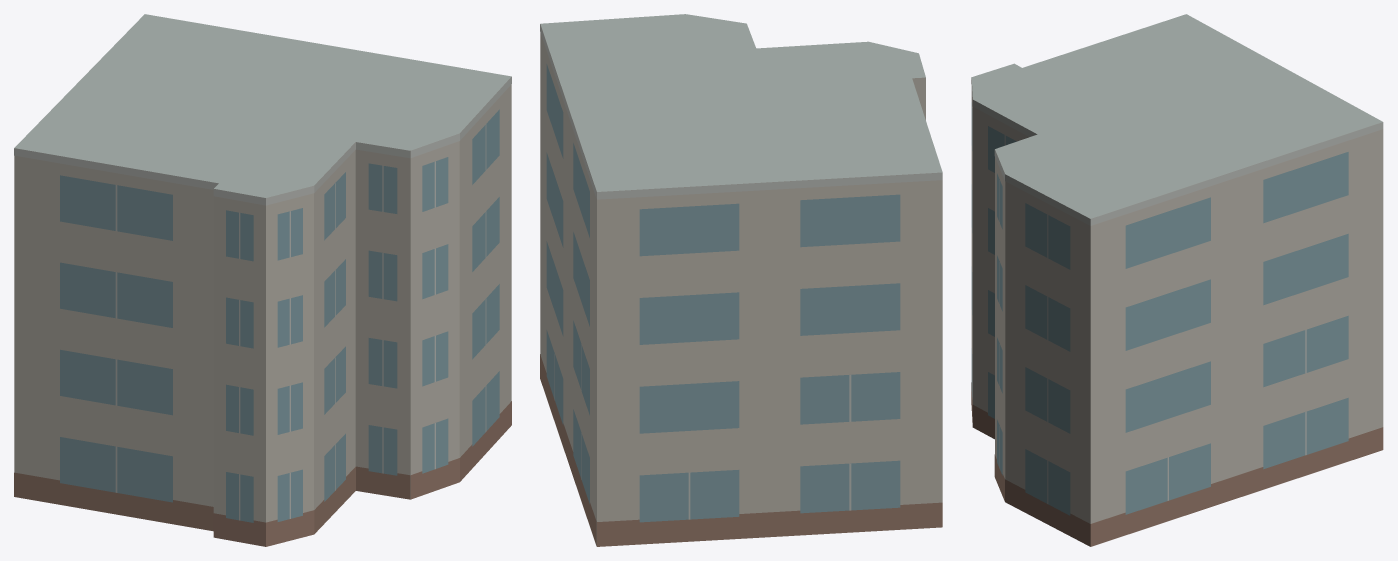
Rendered from survey-upis-32599819.glb.
3 views of the same model, side by side, from view 1: azimuth 30°, elevation 25°; view 2: azimuth 150°, elevation 25°; view 3: azimuth 270°, elevation 25° (orthographic). The views are drawn at different scales.
Visible parts, largest first — view 1: survey-upis-32599819.tmp; view 2: survey-upis-32599819.tmp; view 3: survey-upis-32599819.tmp.
Boxes of the visible parts, bbox=[...] form: survey-upis-32599819.tmp: bbox=[14, 14, 511, 546]; survey-upis-32599819.tmp: bbox=[540, 14, 942, 546]; survey-upis-32599819.tmp: bbox=[971, 14, 1383, 546].
Bounding box in the file's own units: 15.18 × 11.32 × 12.89.
